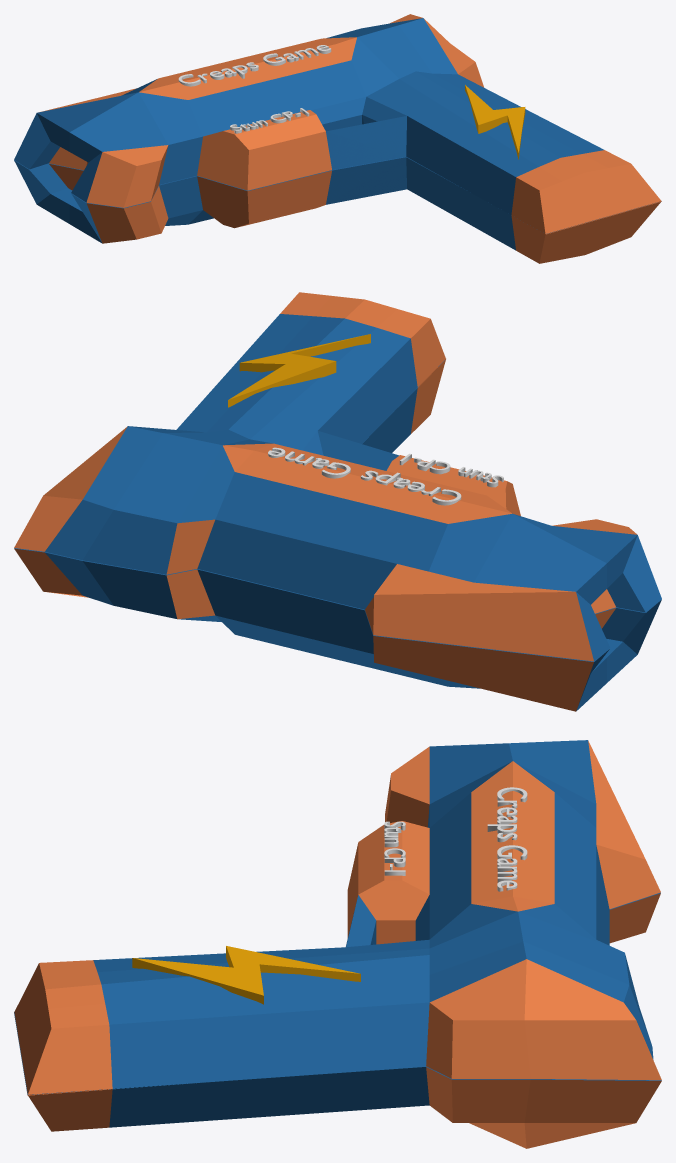
The model's file is Gun 2.fbx.
3 renders of one model, top to bottom at view 1: azimuth 30°, elevation 25°; view 2: azimuth 150°, elevation 25°; view 3: azimuth 270°, elevation 25°, orthographic. The views are drawn at different scales.
Parts seen in each view (by area): view 1: Gun 1; view 2: Gun 1; view 3: Gun 1.
Boxes of the visible parts, <box> form: Gun 1: <box>14,14,661,263</box>; Gun 1: <box>14,292,661,711</box>; Gun 1: <box>14,740,661,1148</box>.
Bounding box in the file's own units: 861 × 253 × 777.
